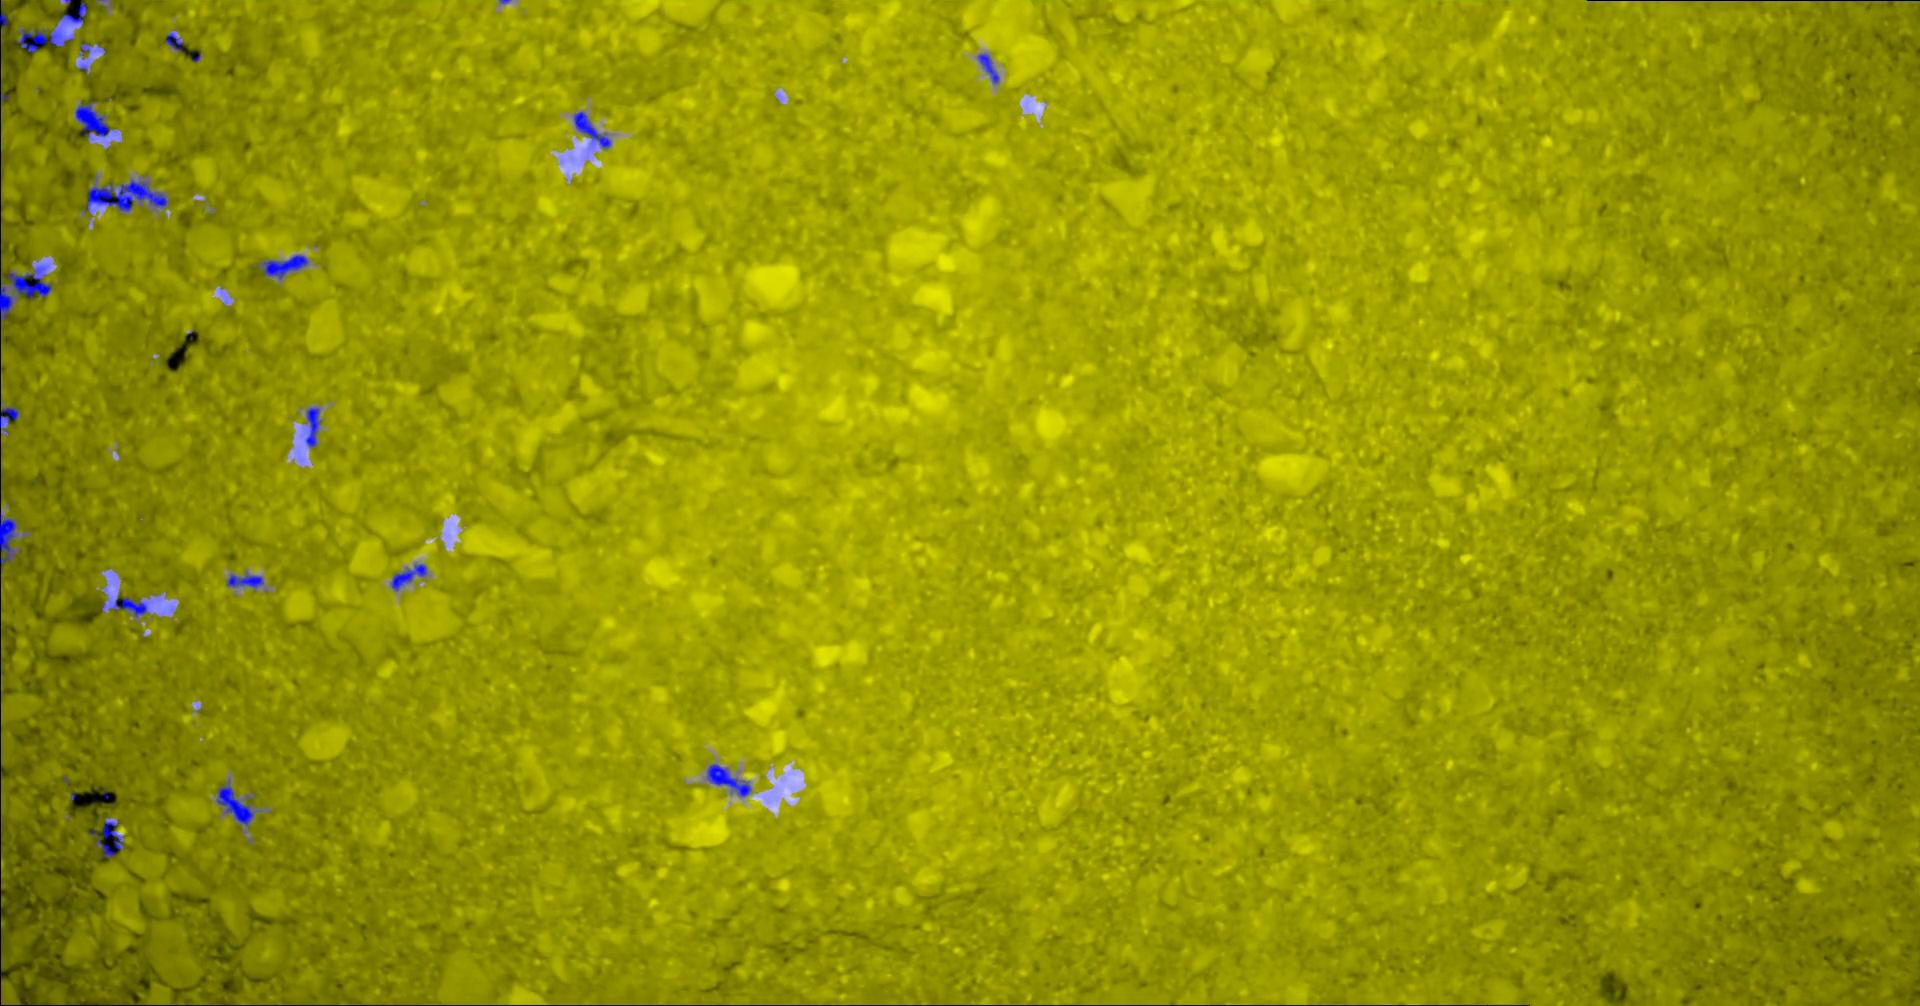ant: (216, 780, 253, 826), (88, 815, 123, 857), (706, 763, 750, 796), (13, 28, 72, 52), (8, 265, 51, 298), (573, 111, 610, 149), (74, 102, 110, 138), (262, 254, 307, 278), (0, 264, 14, 340), (0, 512, 15, 572), (390, 564, 425, 589), (109, 594, 147, 616), (305, 406, 321, 447), (977, 53, 998, 83), (58, 3, 86, 23), (226, 573, 263, 587), (0, 406, 18, 434), (165, 32, 185, 53), (0, 11, 8, 36)
